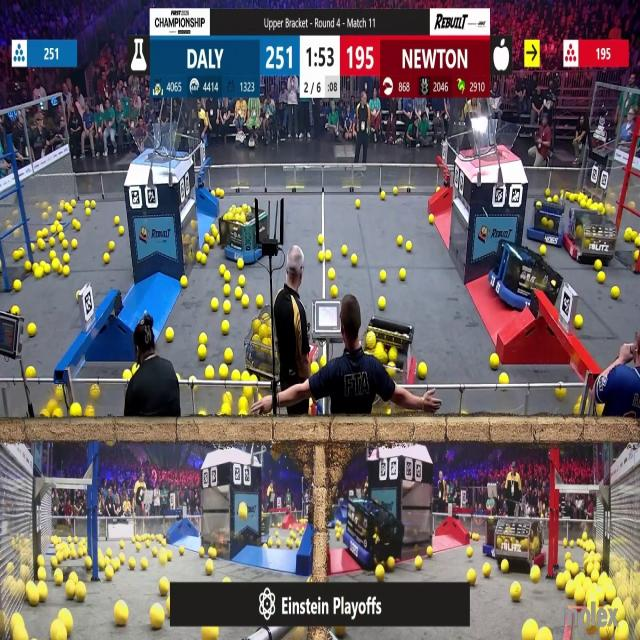ball_airborne: (239, 503, 247, 519)
ball_ground: (149, 607, 164, 631), (114, 600, 126, 626), (160, 579, 171, 597), (512, 584, 522, 602), (38, 584, 48, 602), (418, 362, 428, 378), (70, 404, 81, 418), (76, 585, 85, 602), (530, 567, 540, 582), (574, 590, 584, 605), (377, 565, 386, 581), (605, 588, 615, 602), (491, 353, 499, 369), (467, 568, 475, 584), (219, 364, 228, 378), (224, 349, 232, 364), (206, 560, 214, 575), (105, 567, 114, 580), (574, 315, 582, 329), (206, 364, 214, 378), (56, 570, 64, 584), (199, 346, 207, 360), (484, 563, 492, 577), (28, 322, 36, 336), (387, 558, 395, 572), (37, 568, 46, 580), (27, 365, 36, 377), (167, 329, 174, 344), (222, 301, 230, 314), (330, 285, 338, 298), (221, 320, 228, 334), (200, 334, 208, 346), (12, 280, 20, 292), (180, 276, 188, 288), (242, 295, 250, 307), (222, 405, 230, 417), (35, 268, 43, 280), (611, 286, 618, 299), (86, 408, 95, 418), (500, 374, 508, 385), (86, 557, 94, 568), (209, 548, 217, 559), (379, 296, 386, 308), (255, 295, 262, 307), (501, 560, 508, 572), (319, 355, 326, 367), (63, 267, 71, 277), (239, 396, 247, 406), (233, 369, 241, 379), (416, 557, 422, 570), (212, 299, 218, 312), (141, 558, 148, 569), (223, 284, 229, 296), (55, 409, 63, 418), (237, 286, 243, 298), (598, 272, 604, 284), (99, 557, 105, 569), (62, 240, 69, 250), (592, 571, 599, 581), (37, 240, 44, 250), (104, 252, 110, 263), (399, 270, 405, 281), (351, 253, 357, 264), (427, 545, 433, 556), (130, 558, 136, 569), (573, 406, 579, 417), (238, 261, 245, 270), (328, 270, 334, 280), (64, 253, 70, 263), (201, 253, 207, 263), (26, 263, 32, 273), (596, 262, 602, 272), (223, 272, 229, 282), (239, 276, 245, 286), (118, 554, 124, 564), (342, 246, 348, 256), (381, 272, 387, 282), (200, 548, 206, 558), (325, 250, 331, 260), (58, 222, 64, 232), (318, 251, 324, 261), (51, 264, 57, 274), (540, 246, 546, 256), (243, 373, 250, 381), (71, 240, 77, 249), (48, 238, 54, 247), (12, 306, 18, 315), (224, 392, 230, 401), (185, 278, 190, 288), (200, 411, 207, 418), (113, 216, 119, 224), (167, 554, 173, 562), (195, 252, 200, 261), (204, 244, 209, 253), (467, 548, 472, 557), (406, 242, 411, 250), (118, 226, 123, 234), (220, 266, 224, 276), (381, 191, 386, 199), (386, 410, 391, 417), (136, 541, 141, 548), (356, 201, 360, 209), (93, 202, 97, 210), (60, 234, 64, 241), (86, 207, 89, 216)
goal: (466, 120, 520, 159), (132, 132, 189, 159)
robot_blue: (342, 492, 408, 574), (220, 204, 266, 268), (532, 199, 564, 247)
robot_red: (361, 307, 418, 405), (243, 314, 320, 378), (501, 248, 562, 310), (498, 512, 549, 572), (563, 212, 616, 262)
